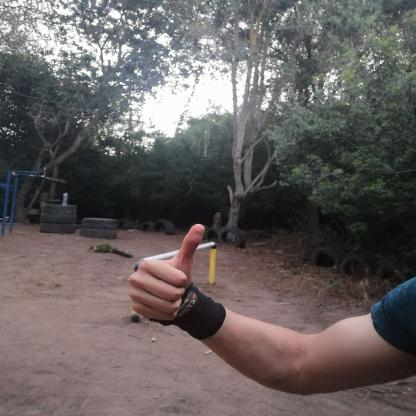ALIF: (110, 214, 227, 335)
